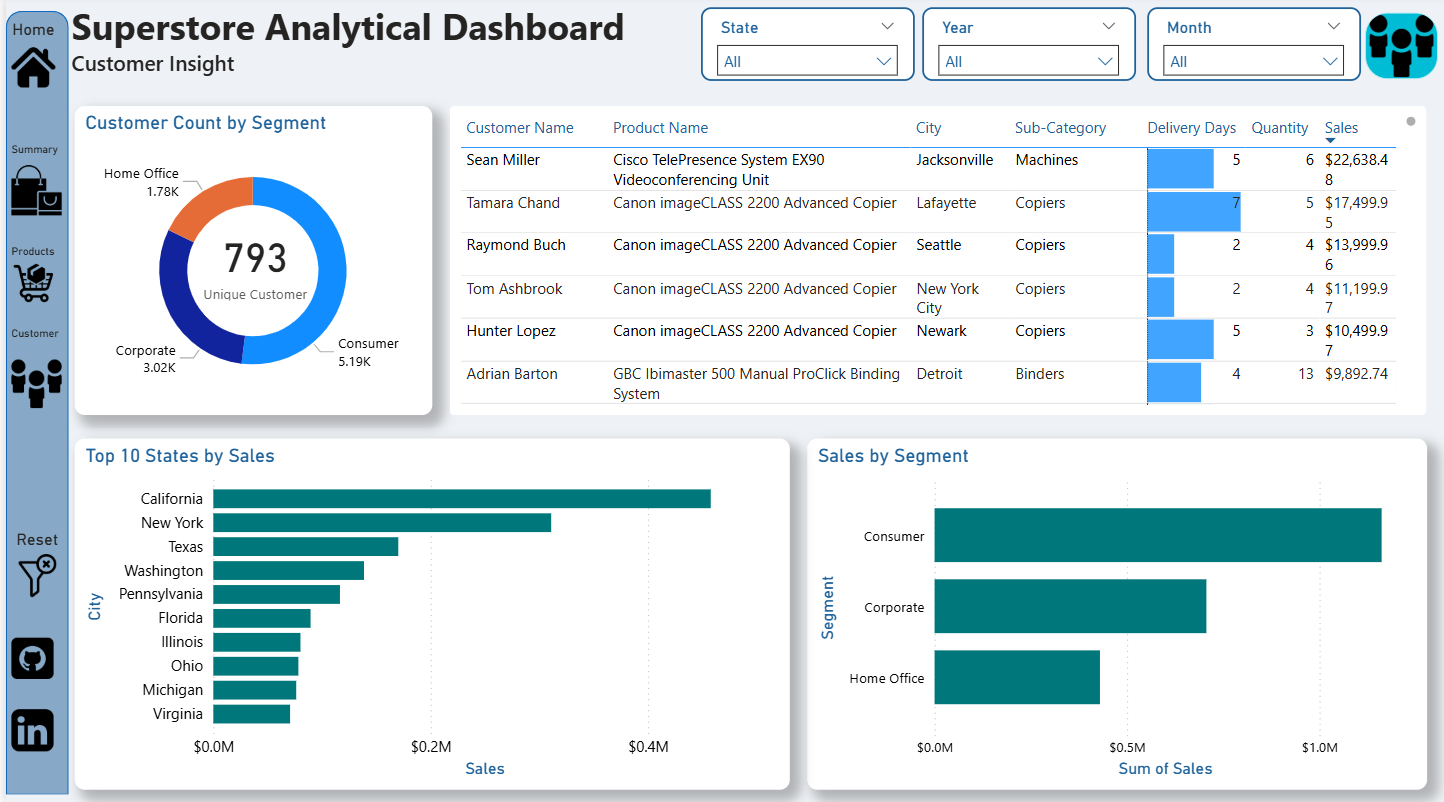

The dashboard page shown, as its layout file describes it:
{"tool":"powerbi","page":{"name":"Customer Insight","canvas":[1280,720],"ordinal":3},"visuals":[{"type":"textbox","box":[52.9,0,560,82.5],"z":0},{"type":"donutChart","title":"Customer Count by Segment","fields":{"Category":["Orders.Segment"],"Y":["CountNonNull(Orders.Customer Name)"]},"box":[61.6,97.7,318,274.9],"z":1000},{"type":"clusteredBarChart","title":"Sales by Segment","fields":{"Y":["Sum(Orders.Sales)"],"Category":["Orders.Segment"]},"box":[713.5,394.1,552.1,312.8],"z":2000},{"type":"clusteredBarChart","title":"Top 10 States by Sales","fields":{"Y":["Sum(Orders.Sales)"],"Category":["Orders.State"]},"box":[61.2,394.1,636.7,312.8],"z":3000},{"type":"shape","box":[0,13.8,55.7,698],"z":3500,"group":"g1"},{"type":"card","fields":{"Values":["_Measure Table.Quique Cust"]},"box":[165.9,199.6,112.8,76.7],"z":4000},{"type":"image","title":"Reset","box":[0,475.6,55.8,65.1],"z":4000,"group":"g1"},{"type":"slicer","fields":{"Values":["Orders.State"]},"box":[618.9,10,190,65.7],"z":5000},{"type":"slicer","fields":{"Values":["Date Table.Year"]},"box":[816,10,190,65.7],"z":6000},{"type":"slicer","fields":{"Values":["Orders.Month Name(Delivery)"]},"box":[1016.3,10,190,65.7],"z":7000},{"type":"tableEx","fields":{"Values":["Orders.Customer Name","Orders.Product Name","Orders.City","Orders.Sub-Category","Orders.Delivery Days","Orders.Quantity","Orders.Sales"]},"box":[395.7,97.7,869.8,275.1],"z":8000},{"type":"image","title":"Customer","box":[1205.2,9.7,74.8,68.8],"z":9000},{"type":"group","id":"g1","title":"Group 2","box":[0,13.8,55.8,698],"z":10000},{"type":"image","title":"Home","box":[0,21.1,49,67.9],"z":10000,"group":"g1"},{"type":"image","title":"Summary","box":[0,131.3,54.5,72.4],"z":11000,"group":"g1"},{"type":"image","title":"Products","box":[0,221.5,49,57.9],"z":12000,"group":"g1"},{"type":"image","title":"Customer","box":[0,295,54.5,90.2],"z":13000,"group":"g1"},{"type":"image","box":[0,561,47.1,57.9],"z":14000,"group":"g1"},{"type":"image","box":[0,616.7,47.4,74.5],"z":15000,"group":"g1"}]}

Visuals, with their boxes on the page's 1280x720 design canvas (x1, y1, x2, y2). These are canvas units, not pixel positions in the 1444x802 screenshot, which may show the page scaled, cropped or inside an application window:
textbox: BBox(53, 0, 613, 82)
"Customer Count by Segment" donutChart: BBox(62, 98, 380, 373)
"Sales by Segment" clusteredBarChart: BBox(714, 394, 1266, 707)
"Top 10 States by Sales" clusteredBarChart: BBox(61, 394, 698, 707)
shape: BBox(0, 14, 56, 712)
card - _Measure Table.Quique Cust: BBox(166, 200, 279, 276)
"Reset" image: BBox(0, 476, 56, 541)
slicer - Orders.State: BBox(619, 10, 809, 76)
slicer - Date Table.Year: BBox(816, 10, 1006, 76)
slicer - Orders.Month Name(Delivery): BBox(1016, 10, 1206, 76)
tableEx - Orders.Customer Name x Orders.Product Name: BBox(396, 98, 1266, 373)
"Customer" image: BBox(1205, 10, 1280, 78)
"Group 2" group: BBox(0, 14, 56, 712)
"Home" image: BBox(0, 21, 49, 89)
"Summary" image: BBox(0, 131, 54, 204)
"Products" image: BBox(0, 222, 49, 279)
"Customer" image: BBox(0, 295, 54, 385)
image: BBox(0, 561, 47, 619)
image: BBox(0, 617, 47, 691)
